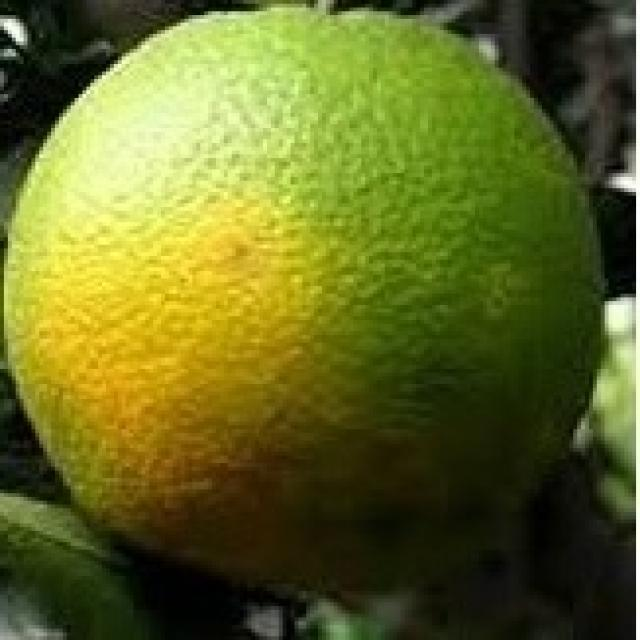Orange: (15, 8, 612, 605)
